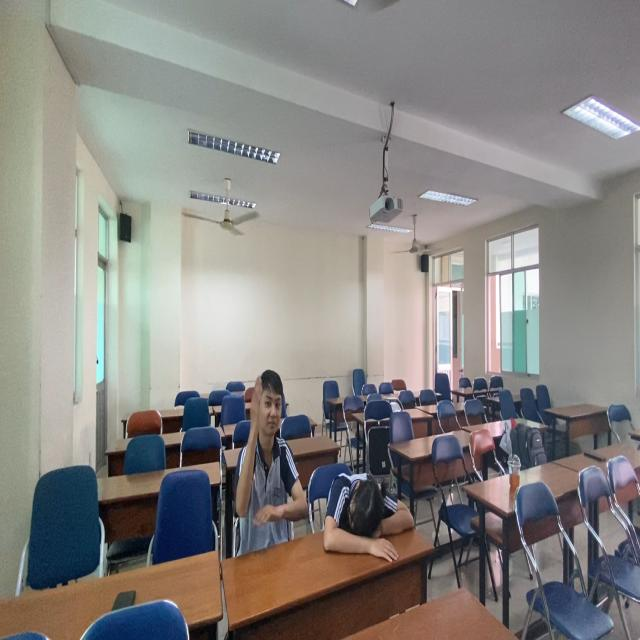raise_hand: (232, 364, 309, 553)
sleep: (318, 466, 419, 567)
